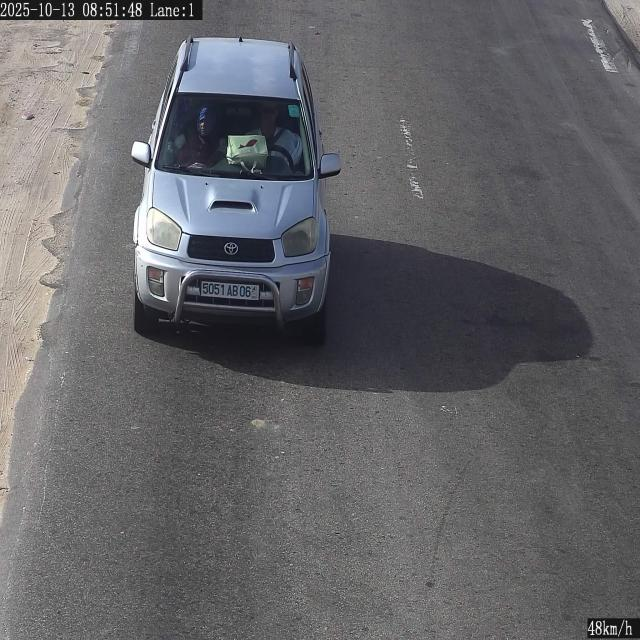BUS: (201, 281, 260, 300)
